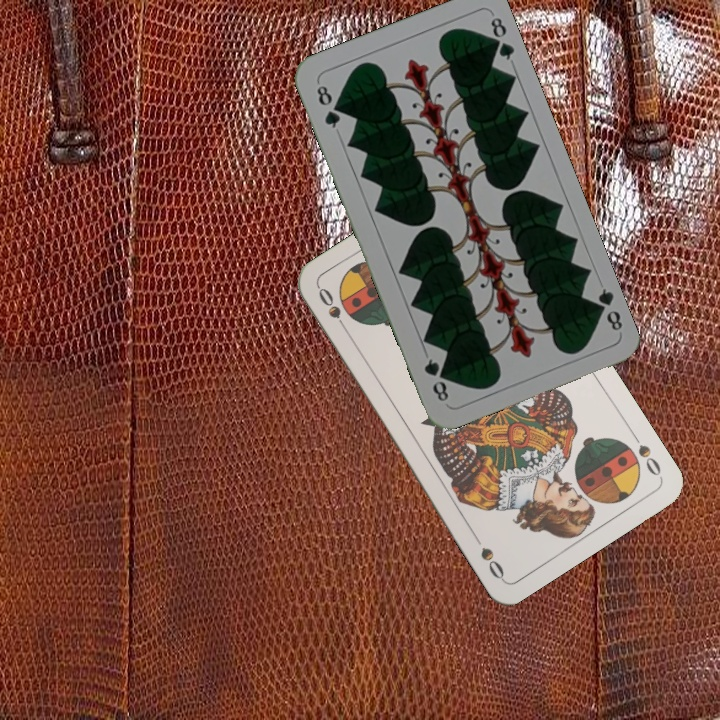G8: (588, 284, 626, 334), (312, 81, 343, 131)
SO: (314, 283, 352, 337), (627, 427, 664, 480)
